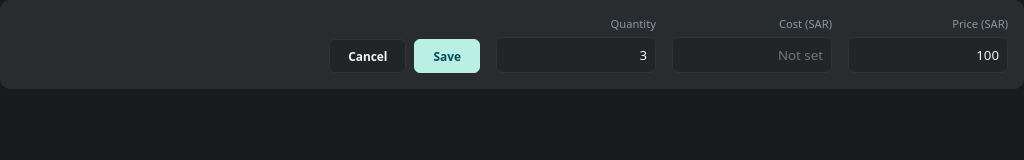
Test: ProductEditForm › validates quantity is a whole number
The image size is (1024, 160).
Replace the text in the number field labelled "Quantity" with "2.5": coordinates (576, 55) [496,37,656,73]
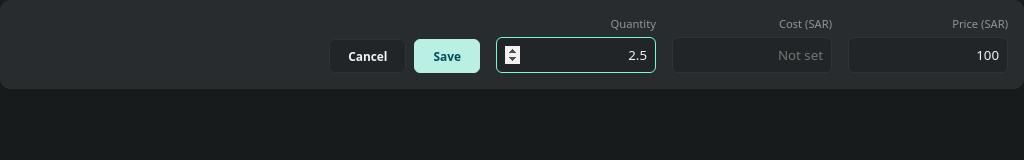
Click the button "Save": coordinates (447, 56) [414,39,480,73]
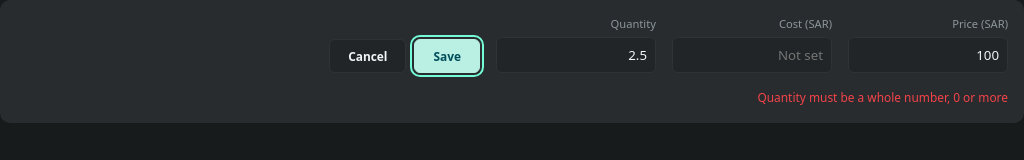
Check: the message shows "whole number", box [758,89,1008,105]
